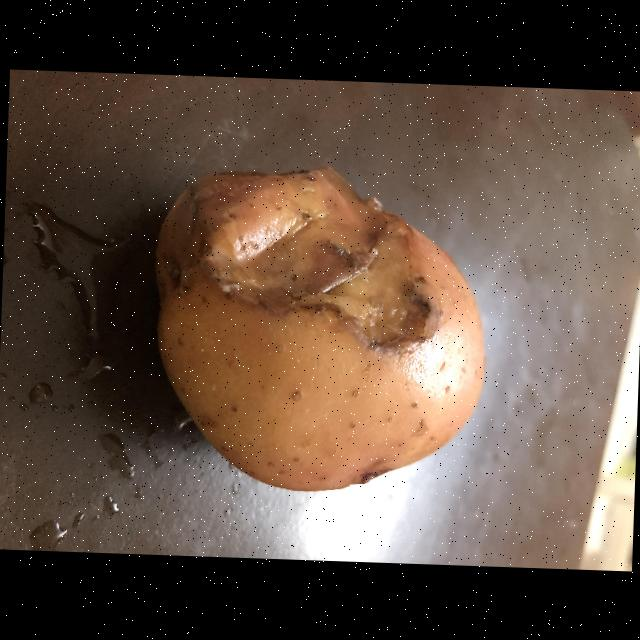Damaged potato: (154, 160, 496, 488)
